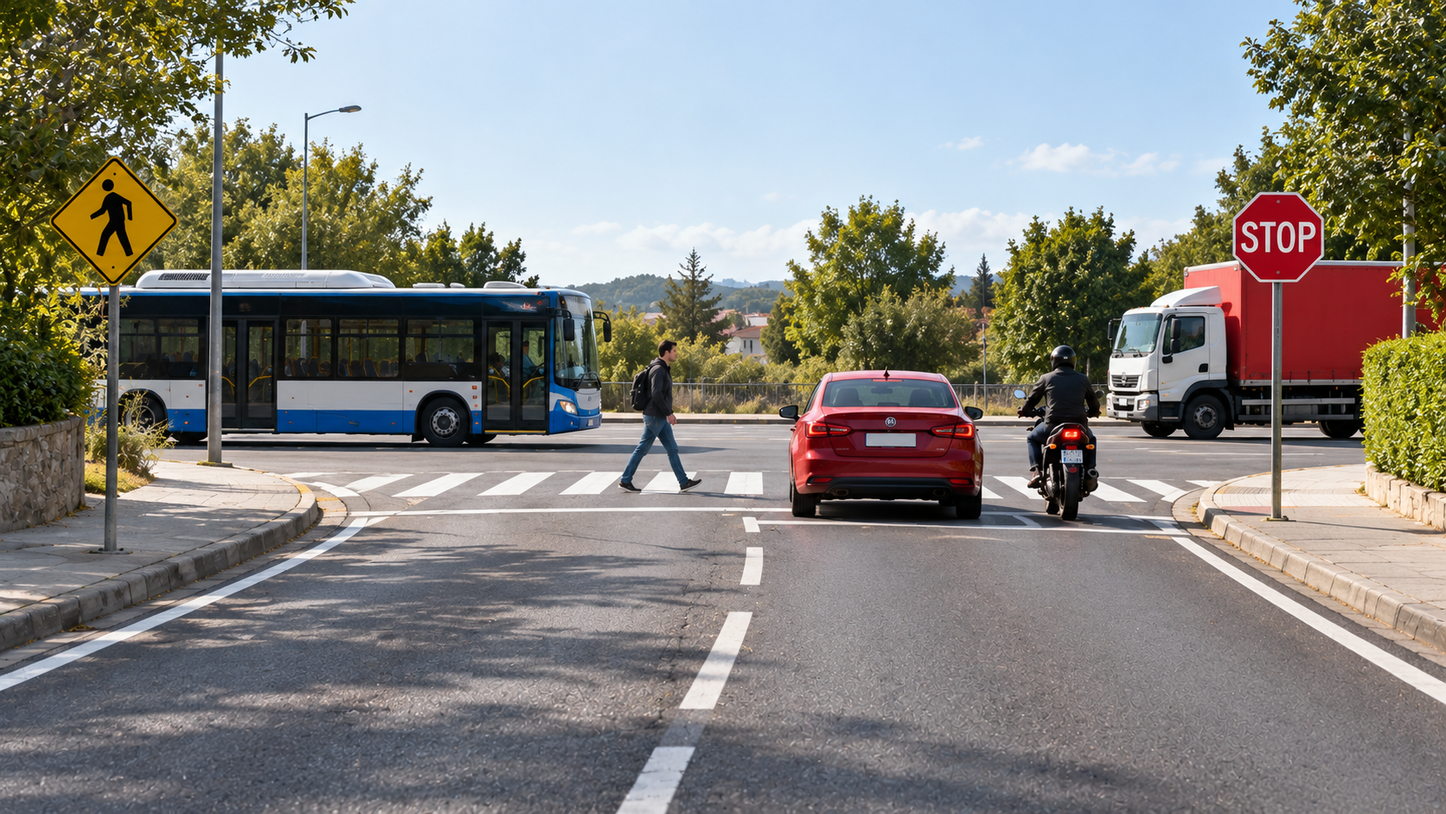bus: (62, 266, 614, 455)
car: (776, 368, 989, 528)
crossing_warning_sign: (48, 153, 183, 289)
motorcycle: (1015, 403, 1112, 532)
person: (613, 337, 712, 497), (1019, 339, 1107, 470)
stop_sign: (1226, 187, 1331, 287)
truck: (1181, 256, 1445, 476)
zebra_crossing: (0, 452, 1260, 528)
